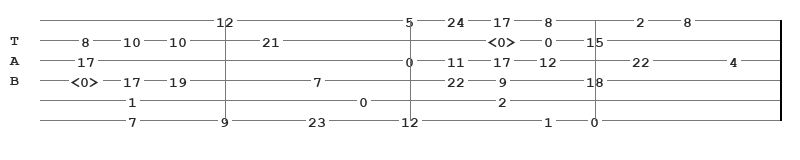0: (359, 94, 372, 107), (405, 54, 418, 67), (544, 34, 557, 47), (590, 114, 603, 127)
1: (128, 94, 141, 107), (544, 114, 557, 127)
10: (123, 34, 145, 47), (169, 34, 191, 47)
11: (447, 54, 469, 67)
12: (216, 14, 238, 27), (401, 114, 423, 127), (539, 54, 561, 67)
15: (586, 34, 608, 47)
17: (77, 54, 99, 67), (123, 74, 145, 87), (493, 54, 515, 67), (493, 14, 515, 27)
18: (586, 74, 608, 87)
19: (169, 74, 191, 87)
2: (498, 94, 511, 107), (636, 14, 649, 27)
21: (262, 34, 284, 47)
22: (447, 74, 469, 87), (632, 54, 654, 67)
23: (308, 114, 330, 127)
24: (447, 14, 469, 27)
4: (729, 54, 742, 67)
5: (405, 14, 418, 27)
7: (128, 114, 141, 127), (313, 74, 326, 87)
8: (81, 34, 94, 47), (544, 14, 557, 27), (683, 14, 696, 27)
9: (220, 114, 233, 127), (498, 74, 511, 87)
harmonic: (71, 74, 104, 87), (488, 34, 521, 47)
